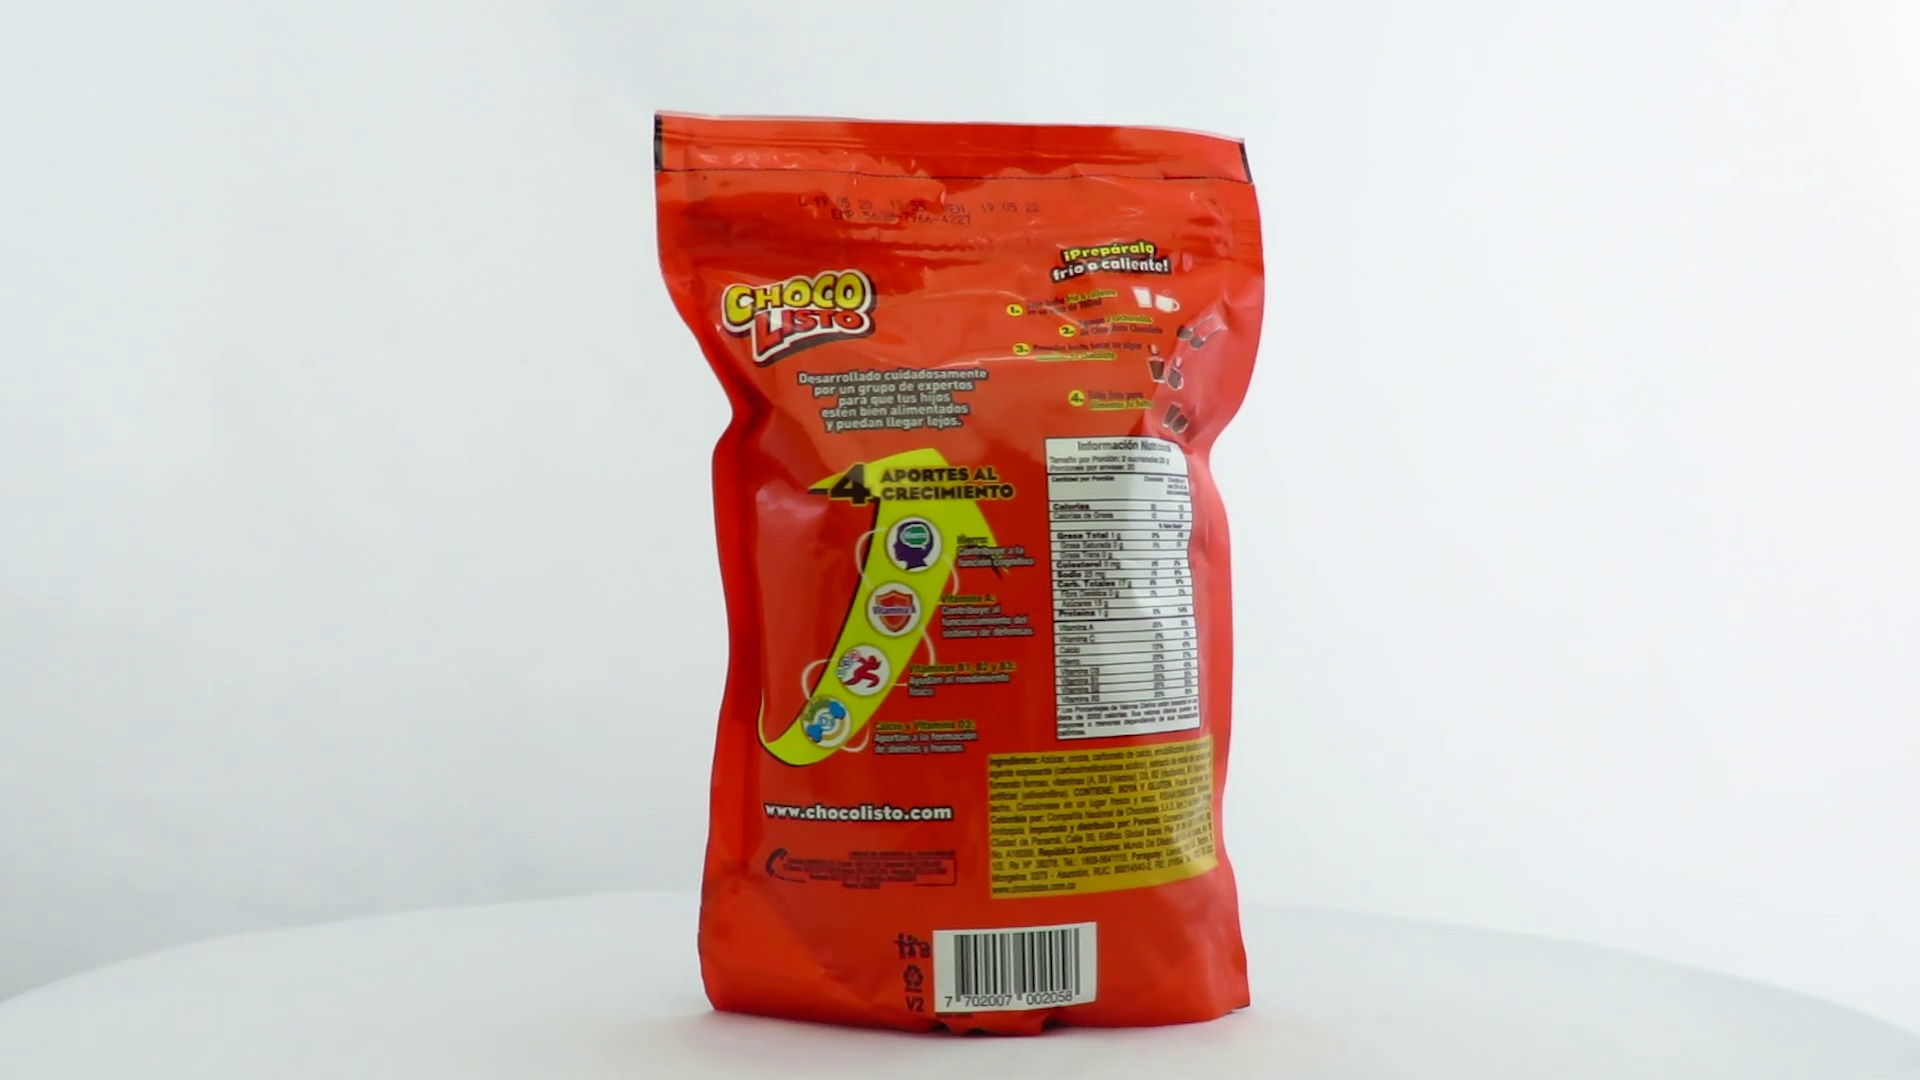COL0170103DYP40000: (647, 104, 1271, 1044)
